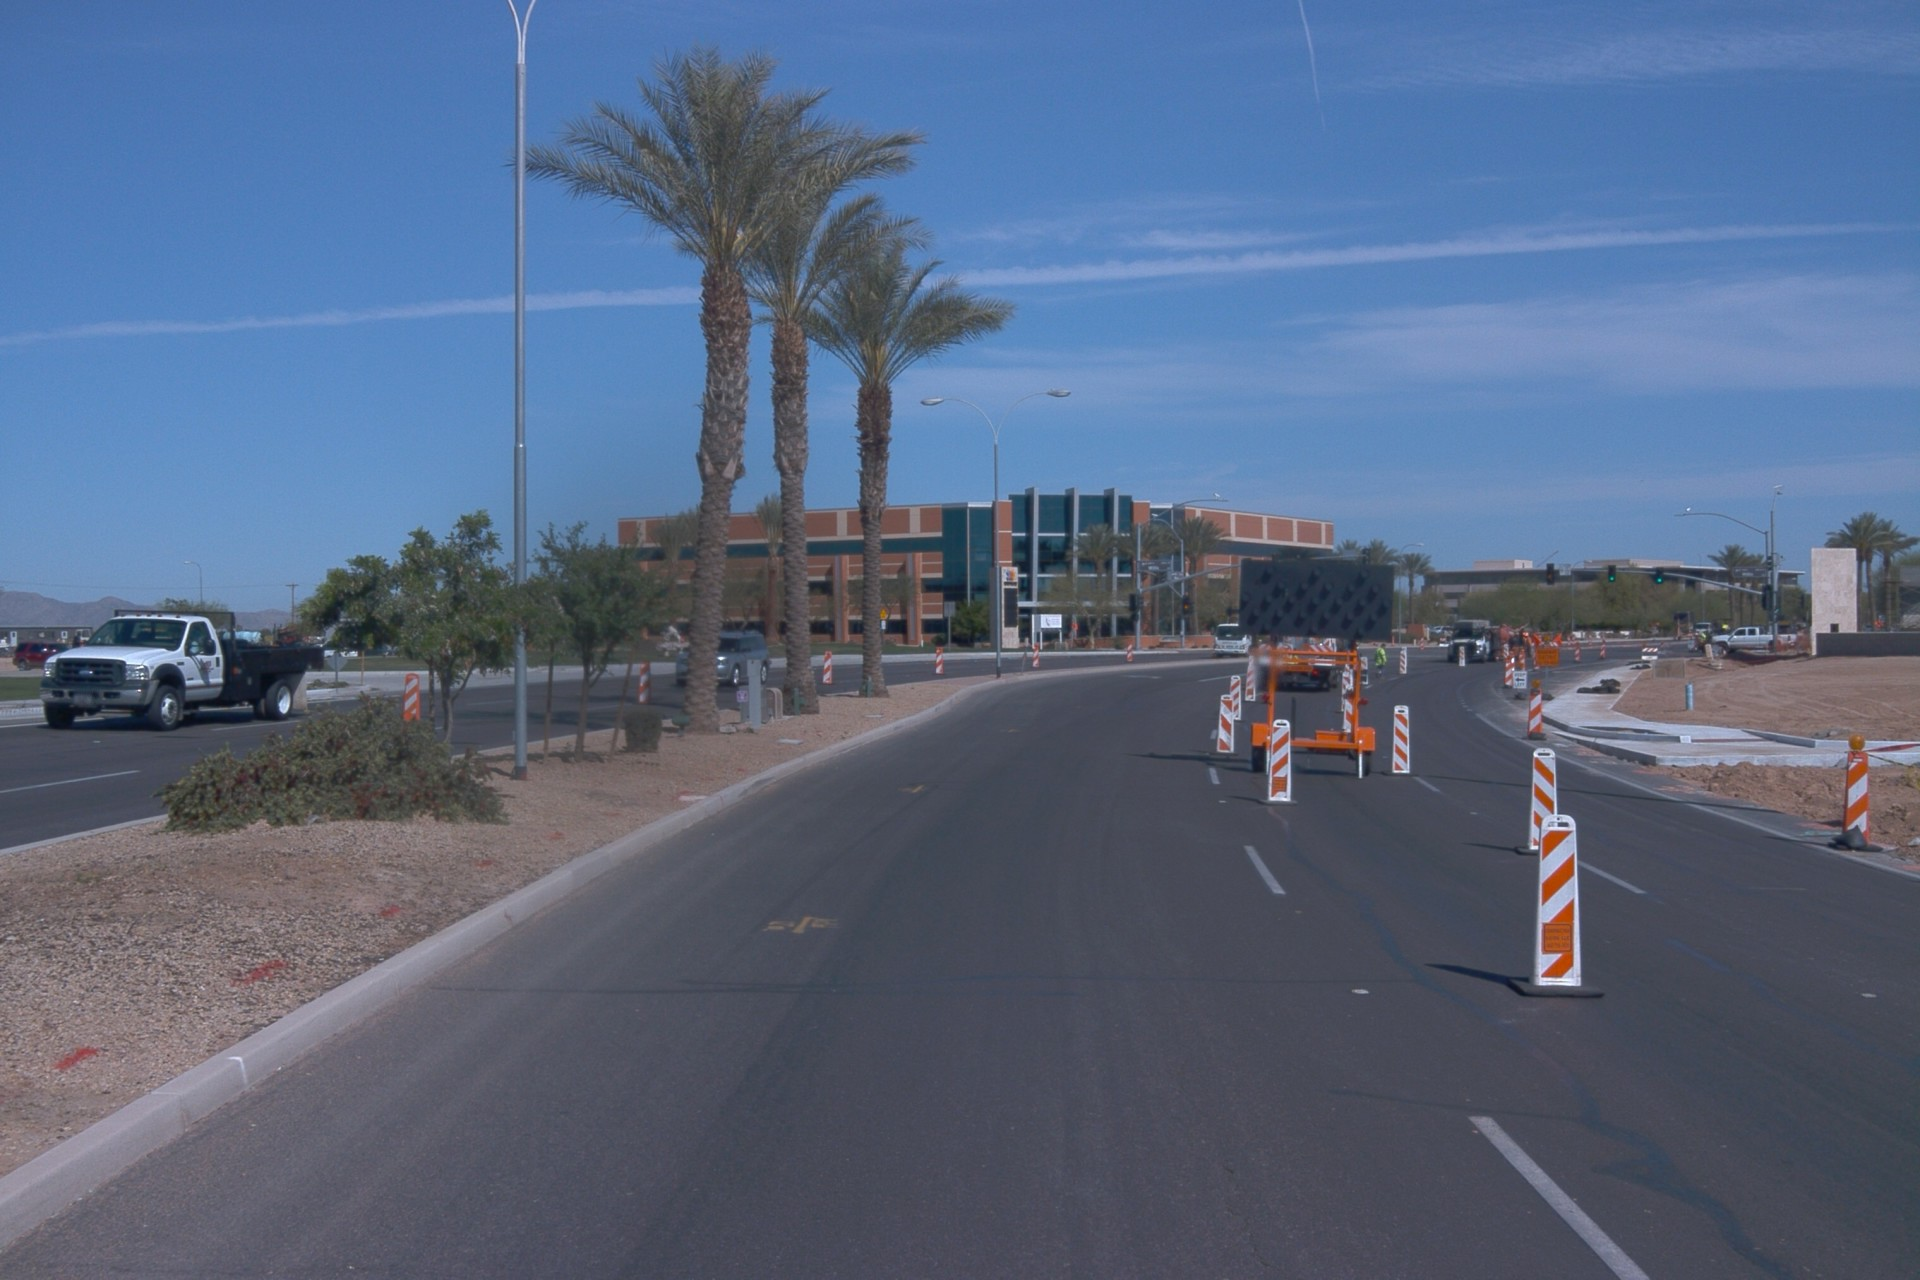TYPE_PEDESTRIAN: (1249, 638, 1261, 688), (1371, 643, 1386, 678)
TYPE_VEHICLE: (1226, 545, 1408, 793), (31, 600, 333, 736), (1245, 632, 1374, 697), (671, 629, 769, 689), (1446, 614, 1537, 662), (1707, 623, 1805, 660), (10, 638, 75, 675), (1210, 619, 1255, 662), (356, 639, 402, 657), (324, 646, 363, 665), (1691, 617, 1717, 642)
